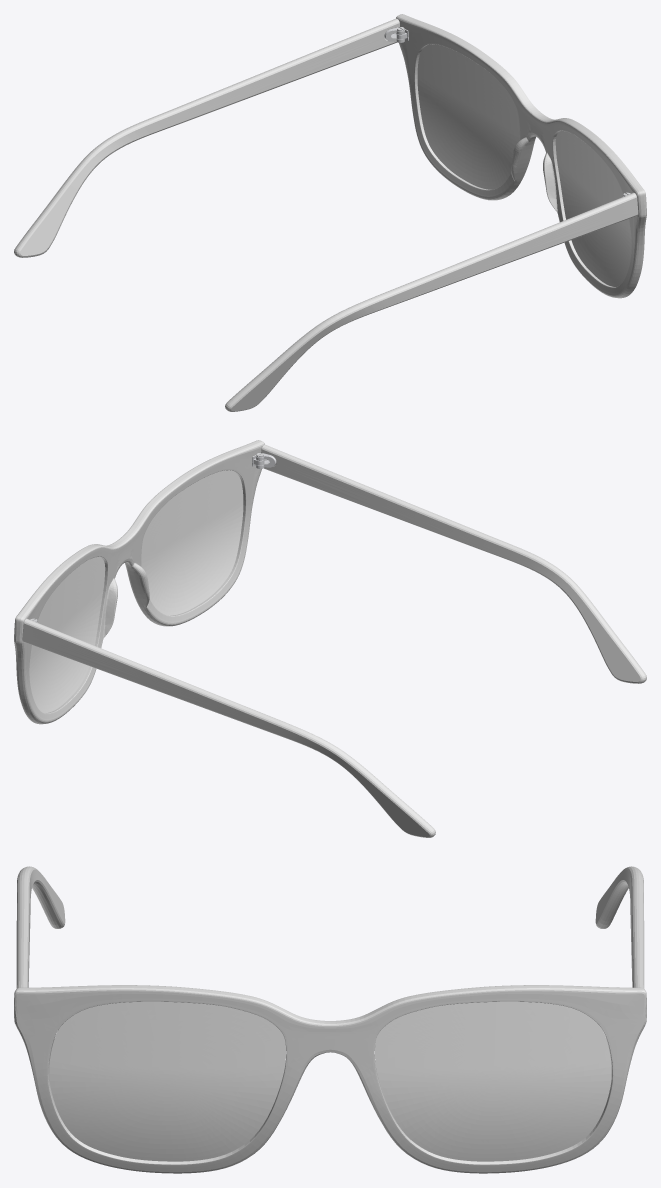
3 renders of one model, top to bottom at view 1: azimuth 30°, elevation 25°; view 2: azimuth 150°, elevation 25°; view 3: azimuth 270°, elevation 25°, orthographic. The views are drawn at different scales.
Visible parts, largest first — view 1: part_03, part_02, part_04, part_00; view 2: part_03, part_02, part_00, part_04; view 3: part_03, part_02, part_00, part_04.
Part boxes in pixels (x1,y1,x2,y2): part_03: [417, 44, 631, 286]; part_02: [396, 14, 646, 298]; part_04: [14, 18, 399, 257]; part_00: [225, 192, 638, 411]; part_03: [29, 470, 243, 712]; part_02: [14, 440, 264, 724]; part_00: [261, 444, 646, 683]; part_04: [22, 618, 435, 837]; part_03: [49, 1001, 611, 1161]; part_02: [14, 985, 646, 1173]; part_00: [16, 866, 65, 988]; part_04: [595, 866, 644, 988].
Size of the model in its own units: 0.1446 by 0.0467 by 0.1436.
3 materials, 1 textured.
